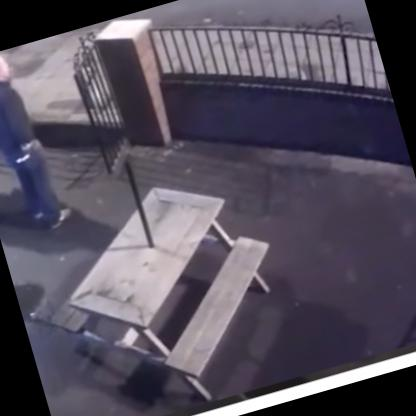Human Body: (0, 43, 81, 249)
